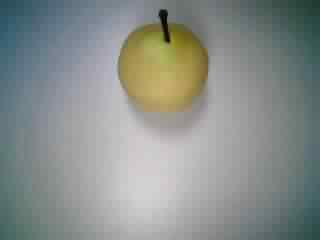pear: (112, 6, 214, 118)
